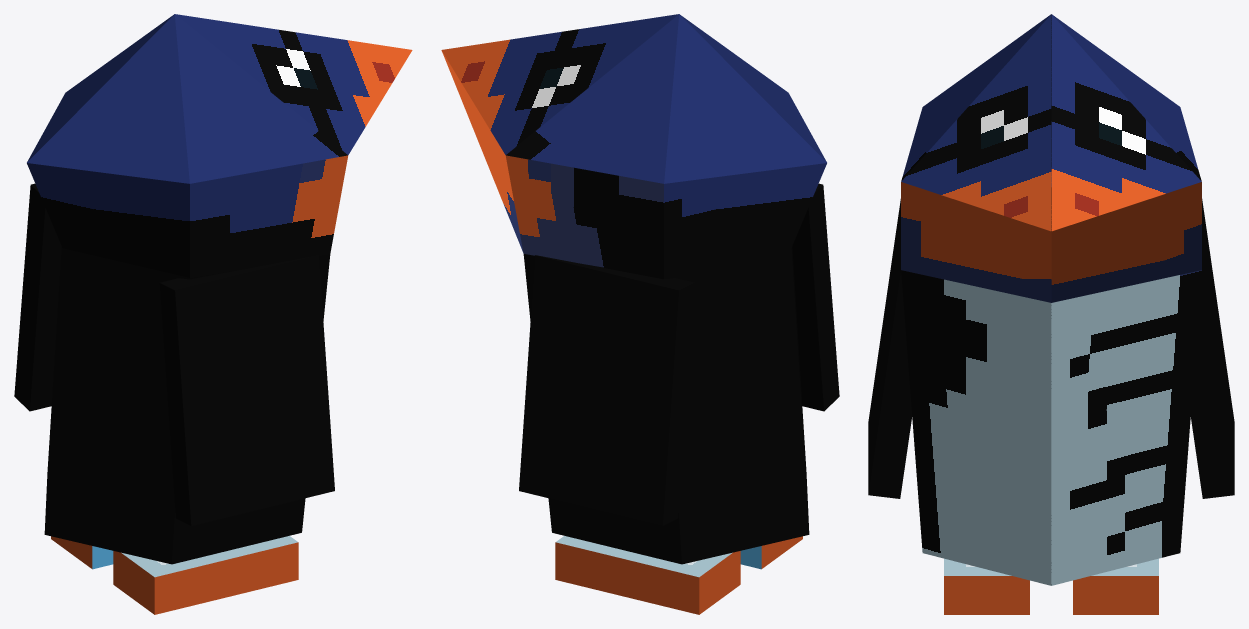
The model's file is birdTest.obj.
3 views of the same model, side by side, from view 1: azimuth 30°, elevation 25°; view 2: azimuth 150°, elevation 25°; view 3: azimuth 270°, elevation 25° (orthographic). The views are drawn at different scales.
Parts seen in each view (by area): view 1: body, l_wing, l_foot, r_wing, r_foot; view 2: body, r_wing, r_foot, l_wing, l_foot; view 3: body, l_wing, r_wing, l_foot, r_foot.
Boxes of the visible parts, x1,y1,x2,y2 form: body: [27, 14, 412, 564]; l_wing: [159, 255, 334, 525]; l_foot: [113, 536, 298, 614]; r_wing: [14, 183, 61, 411]; r_foot: [51, 536, 113, 569]; body: [441, 14, 826, 564]; r_wing: [519, 255, 694, 525]; r_foot: [555, 536, 740, 614]; l_wing: [792, 183, 839, 411]; l_foot: [740, 536, 802, 569]; body: [901, 14, 1201, 585]; l_wing: [868, 199, 912, 498]; r_wing: [1190, 199, 1234, 498]; l_foot: [944, 558, 1029, 614]; r_foot: [1073, 558, 1158, 614].
Size of the model in its own units: 1.34 by 1.81 by 1.07.
